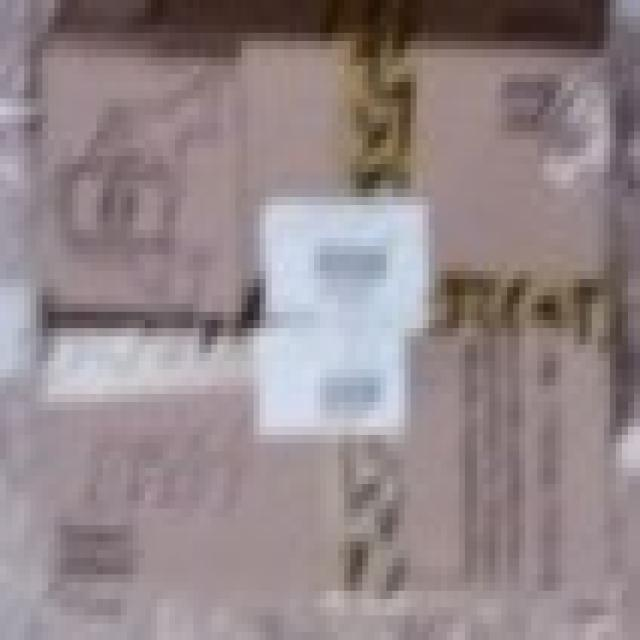boxes: (40, 39, 611, 596)
